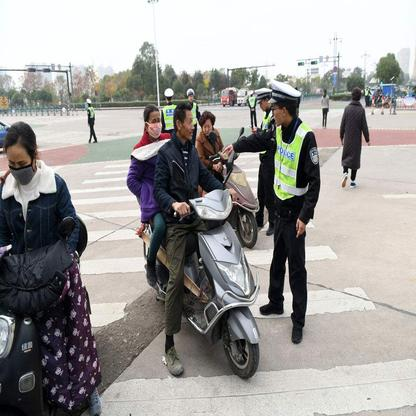target: (127, 100, 270, 380)
